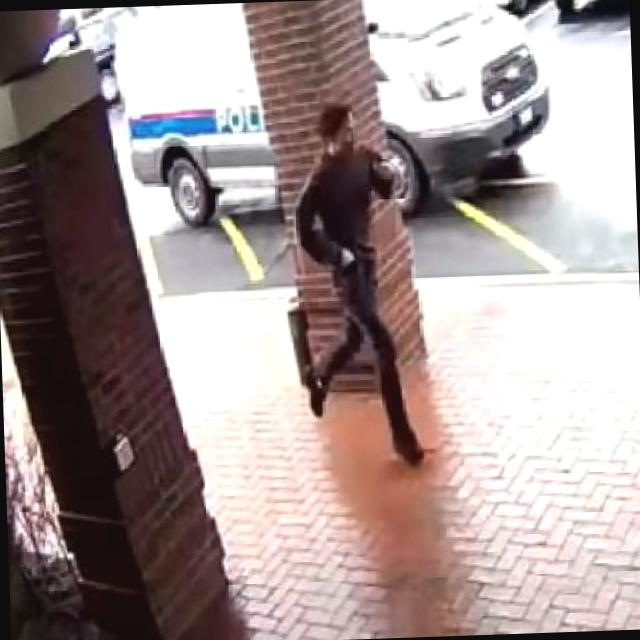Person: (282, 76, 436, 478)
